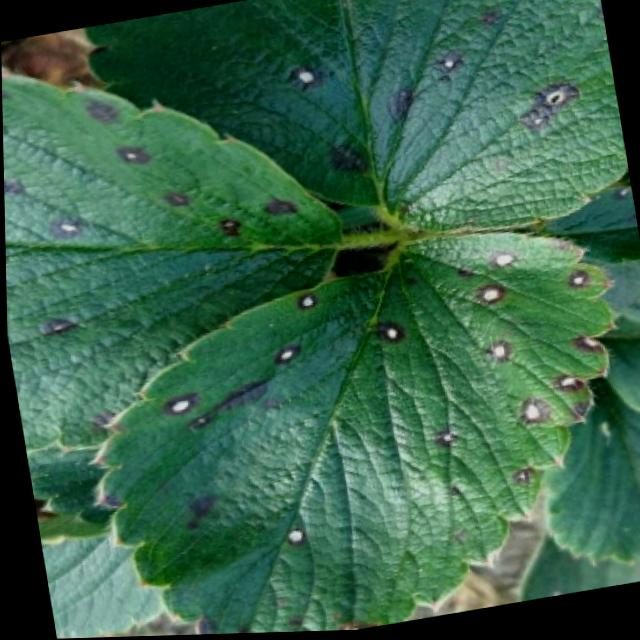Leaf Spot: (84, 236, 616, 636), (81, 0, 628, 242), (1, 69, 343, 455), (519, 189, 640, 269)
